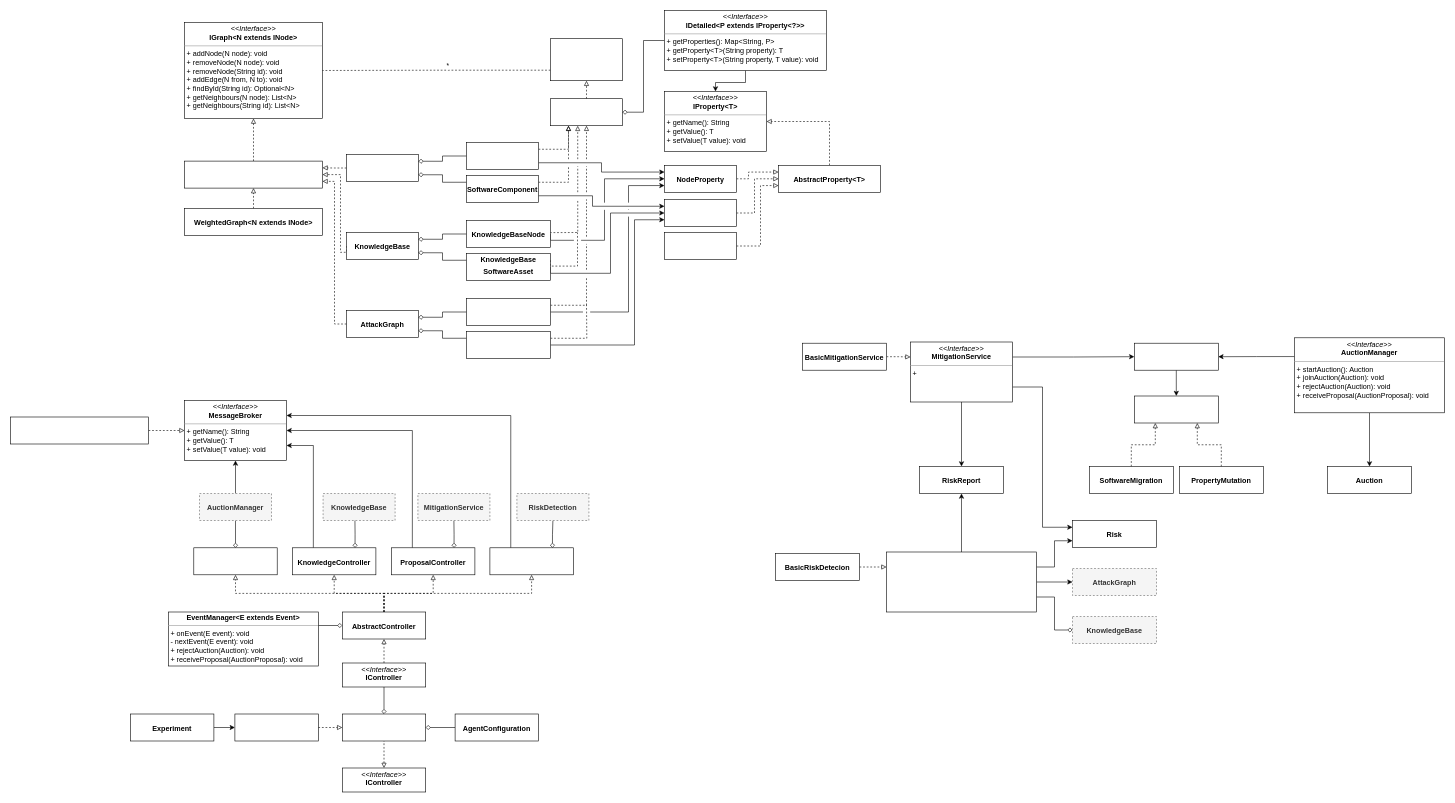
The diagram is 1455 pixels wide and 803 high, and some of its shapes have lost their labels. Here are the shapes that lost their labels. From the top down, the centre of each, then its label:
At point 586,59: "<<Interface>> INode + getID(): String".
At point 586,112: "AbstractNode".
At point 253,174: "AbstractGraph<N extends INode>".
At point 382,168: "Infrastructure".
At point 502,156: "InfrastructureNode".
At point 700,212: "SoftwareProperty".
At point 700,246: "RiskProperty".
At point 508,312: "AttackGraphNode".
At point 508,344: "AttackGraph SoftwareAsset".
At point 1176,356: "Proposal".
At point 1176,409: "Mitigation".
At point 79,430: "InMemoryBroker".
At point 235,561: "AuctionController".
At point 531,561: "RiskController".
At point 961,581: "<<Interface>> RiskDetection + identifyRisks(KnowledgeBase): AttackGraph".
At point 276,727: "ExperimentalAgent".
At point 384,727: "AdrianAgent".
